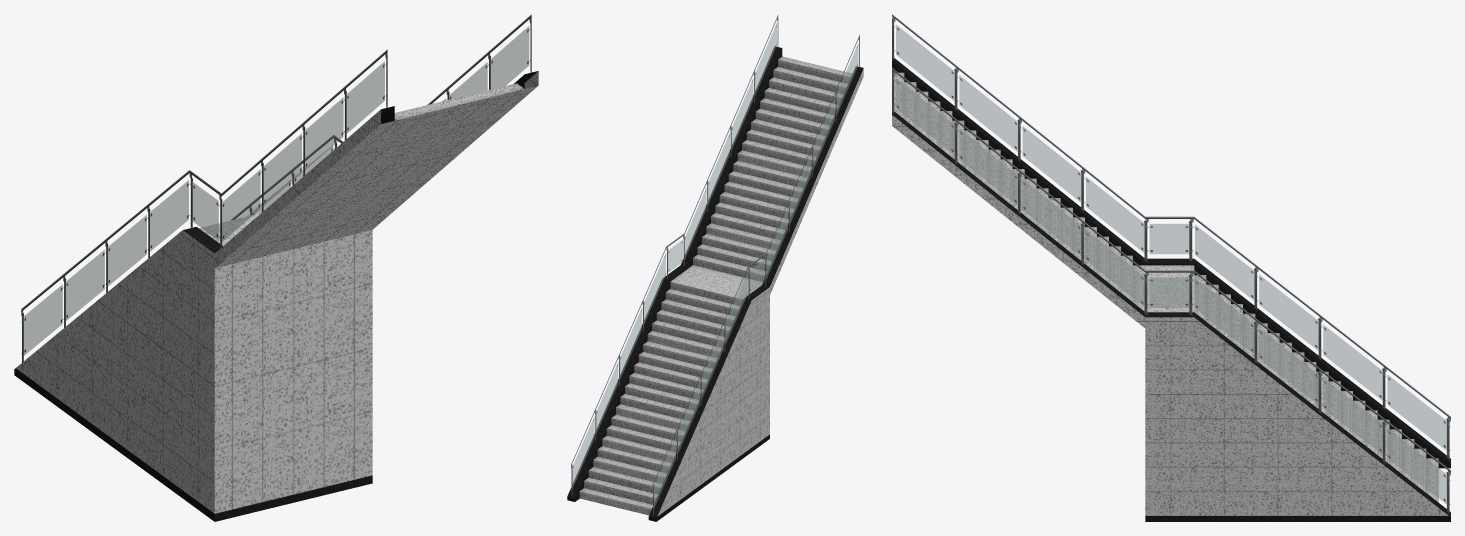
3 renders of one model, left to right at view 1: azimuth 30°, elevation 25°; view 2: azimuth 150°, elevation 25°; view 3: azimuth 270°, elevation 25°, orthographic. The views are drawn at different scales.
Visible parts, largest first — view 1: 10M楼梯; view 2: 10M楼梯; view 3: 10M楼梯.
Part boxes in pixels (box(x1,y1,x2,y2)): 10M楼梯: box(14, 14, 538, 521); 10M楼梯: box(567, 15, 863, 521); 10M楼梯: box(892, 14, 1450, 521).
Bounding box in the file's own units: 3.1 × 11.14 × 12.49.
4 materials, 4 textured.
